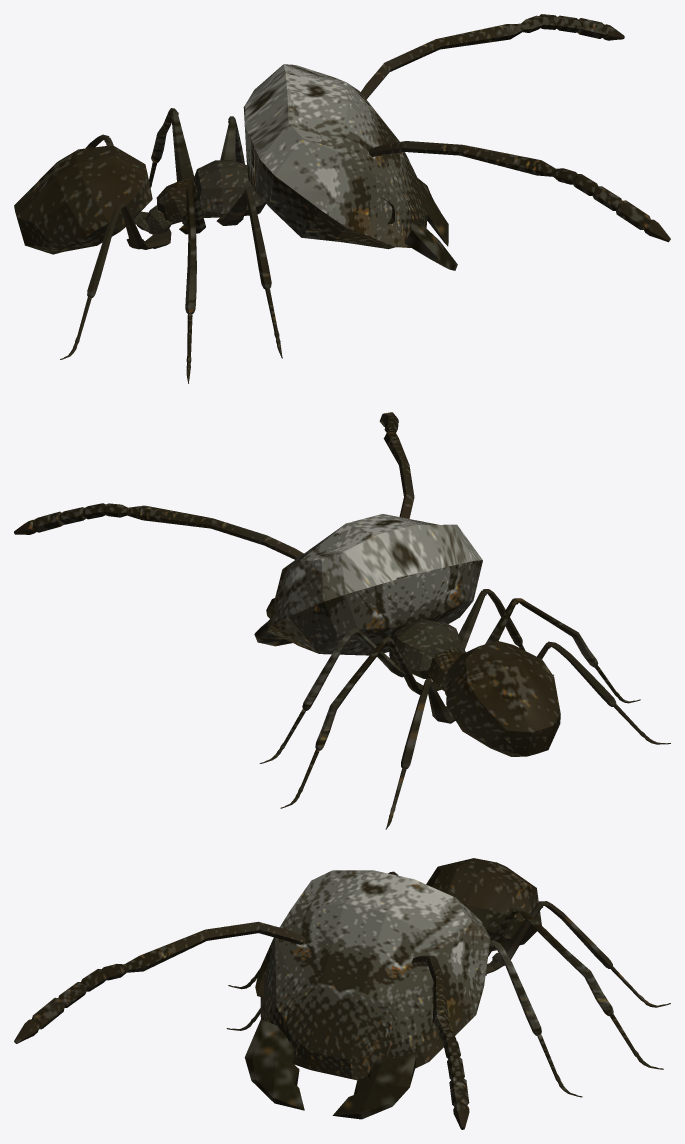
Rendered from ant2.fbx.
3 views of the same model, one above another, from view 1: azimuth 30°, elevation 25°; view 2: azimuth 150°, elevation 25°; view 3: azimuth 270°, elevation 25° (orthographic). The views are drawn at different scales.
Parts seen in each view (by area): view 1: Head, Abdomen 6, Antenna, Legs 2, Abdomen 1, Legs 1, Legs 3, Mandibles, Abdomen 2; view 2: Head, Abdomen 6, Antenna, Legs 2, Legs 3, Abdomen 1, Legs 1, Abdomen 2; view 3: Head, Antenna, Mandibles, Abdomen 6, Legs 2, Legs 3, Legs 1.
Boxes of the visible parts, <box> form: Head: <box>243,64,427,249</box>; Abdomen 6: <box>14,145,152,254</box>; Antenna: <box>360,14,670,242</box>; Legs 2: <box>149,108,205,383</box>; Abdomen 1: <box>193,160,265,217</box>; Legs 1: <box>216,116,282,358</box>; Legs 3: <box>60,134,171,359</box>; Mandibles: <box>405,178,457,270</box>; Abdomen 2: <box>156,179,197,224</box>; Head: <box>266,514,482,655</box>; Abdomen 6: <box>446,640,560,756</box>; Antenna: <box>14,412,414,559</box>; Legs 2: <box>280,598,640,808</box>; Legs 3: <box>385,641,670,829</box>; Abdomen 1: <box>389,620,465,678</box>; Legs 1: <box>259,589,553,763</box>; Abdomen 2: <box>427,648,463,691</box>; Head: <box>260,870,490,1080</box>; Antenna: <box>14,921,469,1129</box>; Mandibles: <box>244,1019,416,1119</box>; Abdomen 6: <box>426,858,541,951</box>; Legs 2: <box>228,906,663,1069</box>; Legs 3: <box>388,871,670,1007</box>; Legs 1: <box>226,940,582,1097</box>.
Size of the model in its own units: 15.44 by 13.67 by 4.61.
